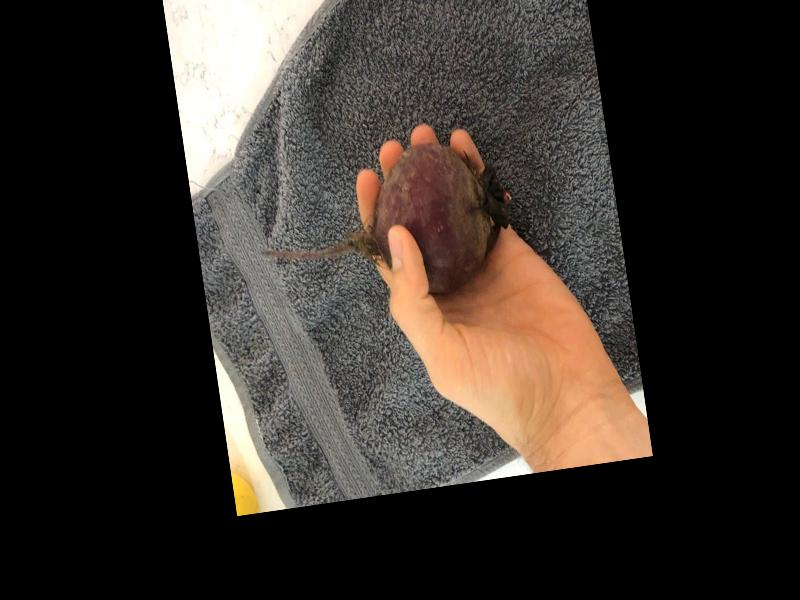Beet: (249, 131, 517, 319)
